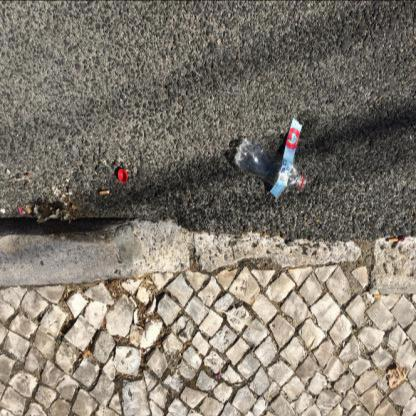Bottle: (118, 169, 128, 183)
Bottle cap: (234, 137, 307, 190)
Cigarette: (134, 324, 144, 329), (389, 237, 398, 242), (100, 190, 110, 194), (374, 294, 383, 297)
Paper: (269, 117, 302, 197)
